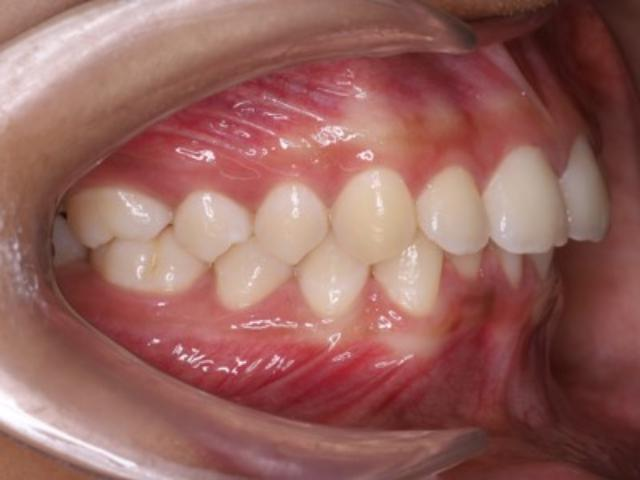canine class I: (294, 151, 446, 338)
molar class III 1/2: (64, 187, 206, 310)
